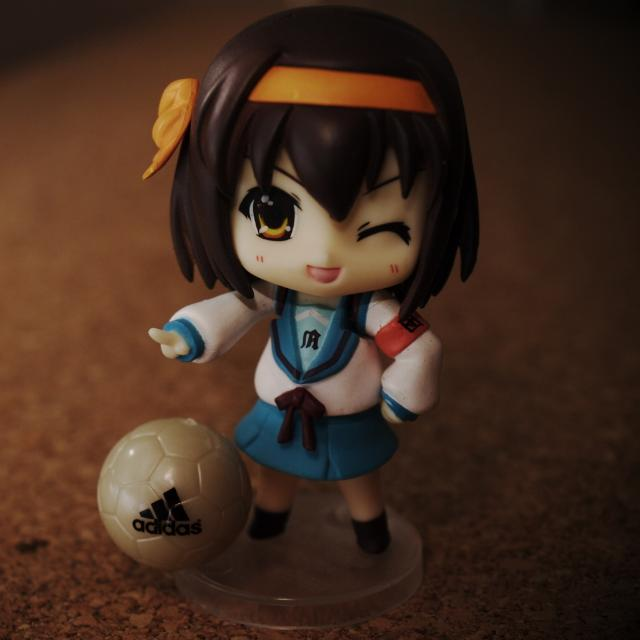Football: (94, 411, 246, 569)
